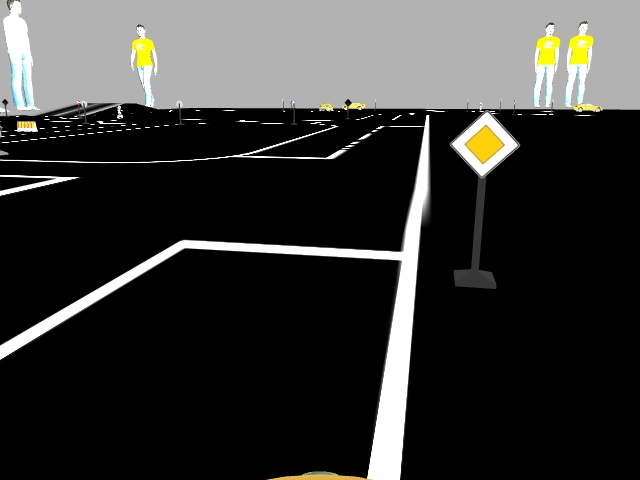ClosedRoadStand: (18, 122, 35, 132)
Priority: (454, 114, 516, 168)
